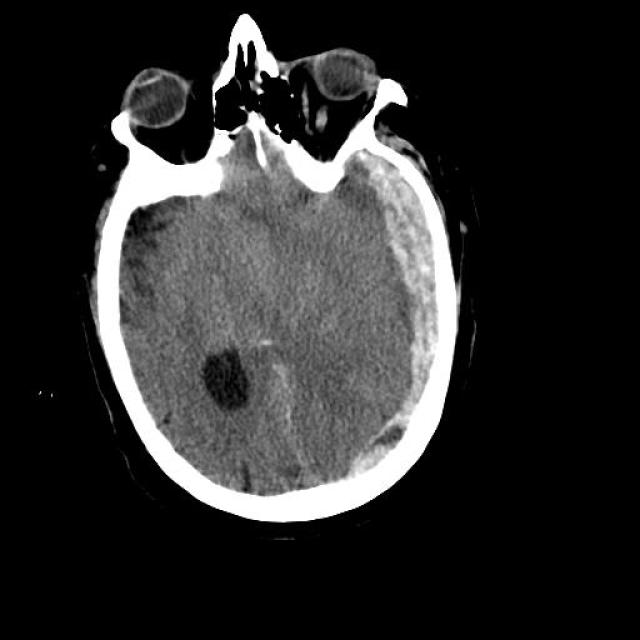Subdural: (332, 125, 518, 474)
